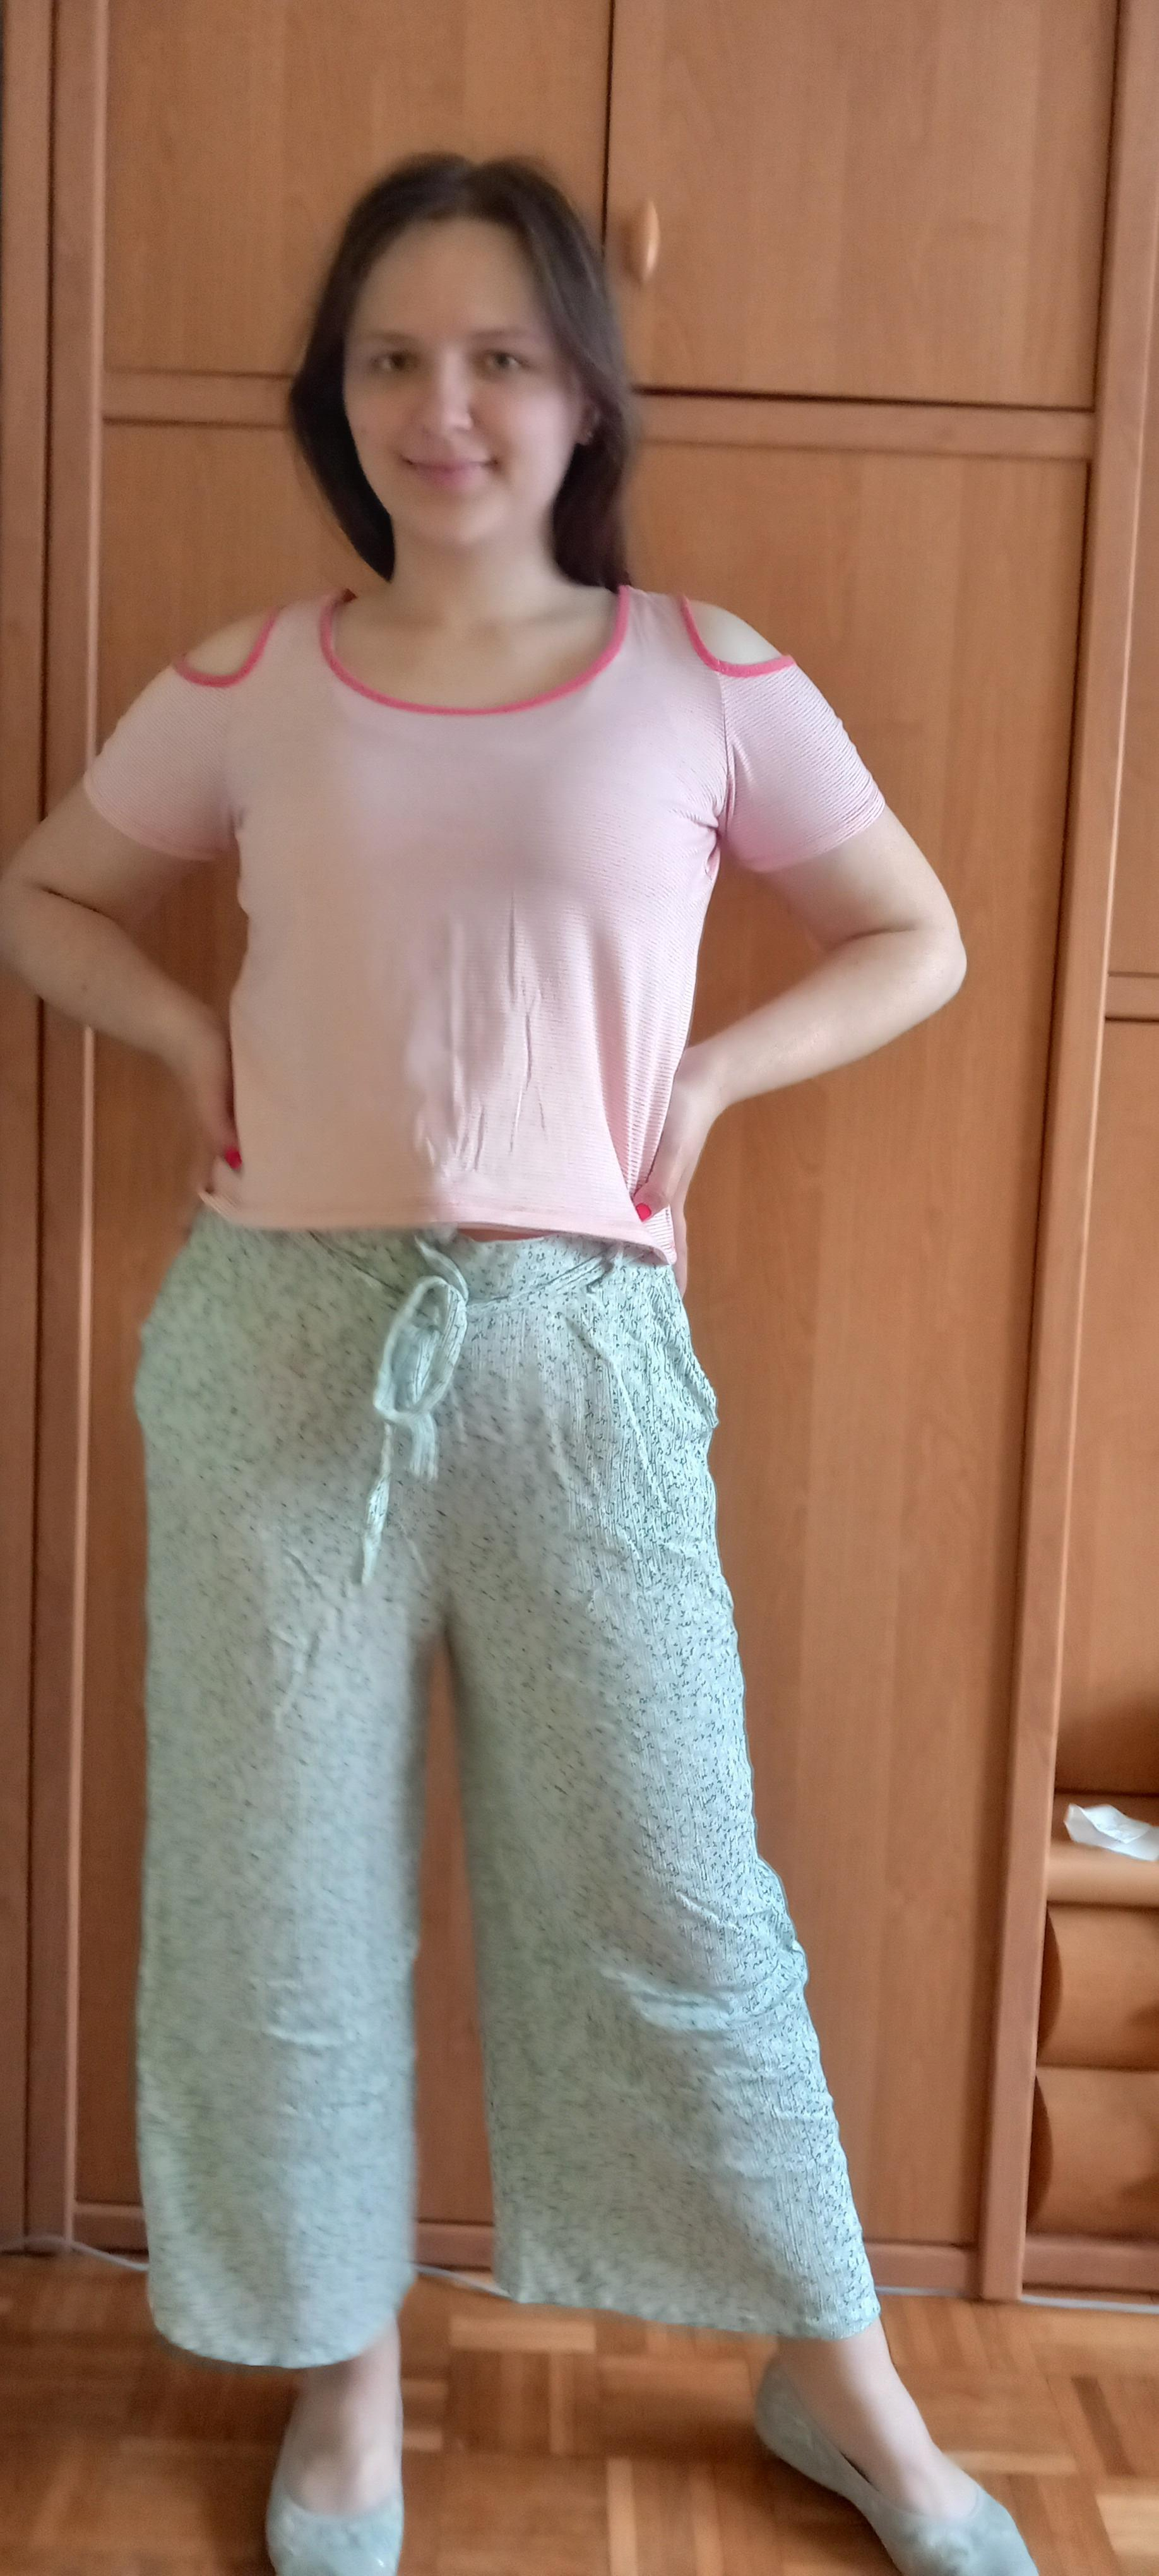Tshirt: (80, 585, 885, 1263)
pants: (131, 1204, 882, 2371)
